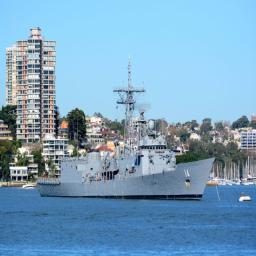Fragata: (36, 54, 217, 204)
